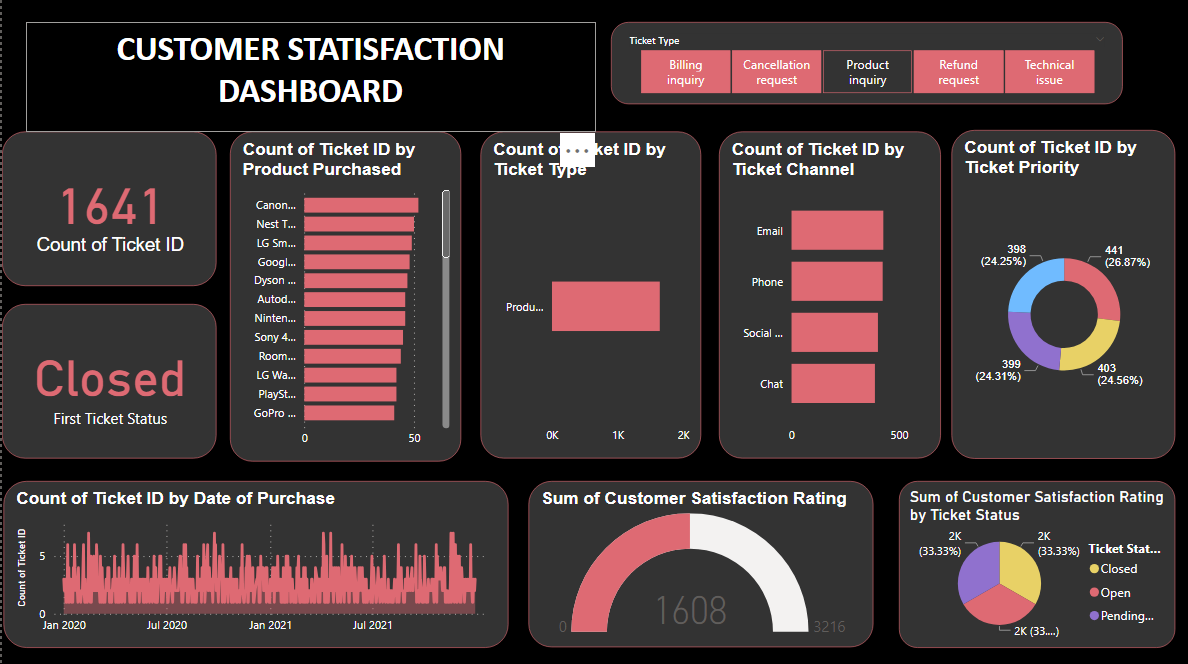

Layout of this report page (visuals, bound fields, positions):
{"tool":"powerbi","page":{"name":"Page 1","canvas":[1280,720],"ordinal":0},"visuals":[{"type":"card","fields":{"Values":["CountNonNull(customer_support_tickets.Ticket ID)"]},"box":[0,144,231.4,166.7],"z":0},{"type":"areaChart","fields":{"Category":["customer_support_tickets.Date of Purchase"],"Y":["CountNonNull(customer_support_tickets.Ticket ID)"]},"box":[2,520.5,544.8,180.3],"z":1000},{"type":"card","fields":{"Values":["Min(customer_support_tickets.Ticket Status)"]},"box":[0,330.1,231.4,166.7],"z":2000},{"type":"clusteredBarChart","fields":{"Category":["customer_support_tickets.Product Purchased"],"Y":["CountNonNull(customer_support_tickets.Ticket ID)"]},"box":[245.9,144,249.2,356],"z":3000},{"type":"clusteredBarChart","fields":{"Category":["customer_support_tickets.Ticket Channel"],"Y":["CountNonNull(customer_support_tickets.Ticket ID)"]},"box":[773.4,144,239.5,352.7],"z":4000},{"type":"clusteredBarChart","fields":{"Y":["CountNonNull(customer_support_tickets.Ticket ID)"],"Category":["customer_support_tickets.Ticket Type"]},"box":[516.1,144,237.8,352.7],"z":5000},{"type":"donutChart","fields":{"Y":["CountNonNull(customer_support_tickets.Ticket ID)"],"Category":["customer_support_tickets.Ticket Priority"]},"box":[1024.2,142.4,241.1,354.3],"z":6000},{"type":"gauge","fields":{"Y":["Sum(customer_support_tickets.Customer Satisfaction Rating)"]},"box":[567.9,521,372.1,179.6],"z":7000},{"type":"slicer","fields":{"Values":["customer_support_tickets.Ticket Type"]},"box":[656.9,25.9,551.7,89],"z":8000},{"type":"pieChart","fields":{"Y":["Sum(customer_support_tickets.Customer Satisfaction Rating)"],"Category":["Ticket Status.Ticket Status"]},"box":[968.1,520.5,297.7,180.3],"z":8001},{"type":"textbox","box":[26.3,26.3,613.7,117.5],"z":8002}]}

Visuals, with their boxes in screenshot pixels (x1, y1, x2, y2), scaled from the page's 1280x720 canvas onto the 1188x664 screenshot:
card - CountNonNull(customer_support_tickets.Ticket ID): l=0, t=133, r=215, b=287
areaChart - customer_support_tickets.Date of Purchase x CountNonNull(customer_support_tickets.Ticket ID): l=2, t=480, r=507, b=646
card - Min(customer_support_tickets.Ticket Status): l=0, t=304, r=215, b=458
clusteredBarChart - customer_support_tickets.Product Purchased x CountNonNull(customer_support_tickets.Ticket ID): l=228, t=133, r=460, b=461
clusteredBarChart - customer_support_tickets.Ticket Channel x CountNonNull(customer_support_tickets.Ticket ID): l=718, t=133, r=940, b=458
clusteredBarChart - CountNonNull(customer_support_tickets.Ticket ID) x customer_support_tickets.Ticket Type: l=479, t=133, r=700, b=458
donutChart - CountNonNull(customer_support_tickets.Ticket ID) x customer_support_tickets.Ticket Priority: l=951, t=131, r=1174, b=458
gauge - Sum(customer_support_tickets.Customer Satisfaction Rating): l=527, t=480, r=872, b=646
slicer - customer_support_tickets.Ticket Type: l=610, t=24, r=1122, b=106
pieChart - Sum(customer_support_tickets.Customer Satisfaction Rating) x Ticket Status.Ticket Status: l=899, t=480, r=1175, b=646
textbox: l=24, t=24, r=594, b=133
